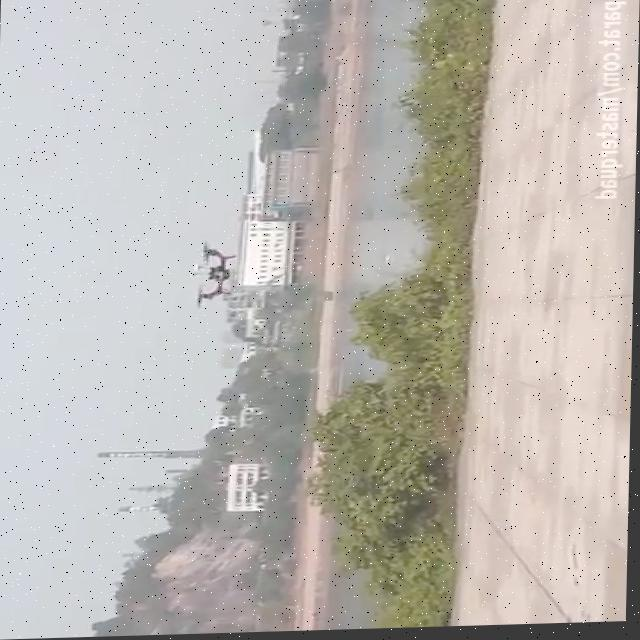drone: (182, 239, 240, 313)
